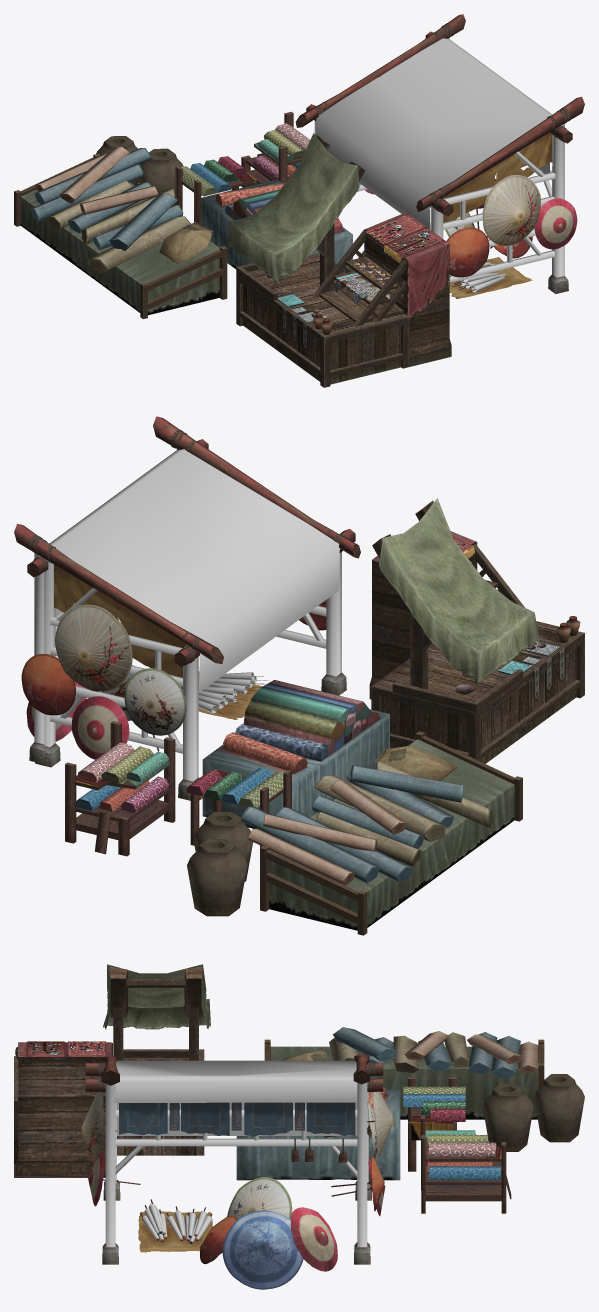
3 renders of one model, top to bottom at view 1: azimuth 30°, elevation 25°; view 2: azimuth 150°, elevation 25°; view 3: azimuth 270°, elevation 25°, orthographic. The views are drawn at different scales.
Visible parts, largest first — view 1: element3ds.com-ca_thing_misc206, element3ds.com-ca_thing_misc057, element3ds.com-ca_thing_misc040, element3ds.com-ca_thing_misc053, element3ds.com-ca_thing_misc084; view 2: element3ds.com-ca_thing_misc206, element3ds.com-ca_thing_misc040, element3ds.com-ca_thing_misc057, element3ds.com-ca_thing_misc053, element3ds.com-ca_thing_misc084; view 3: element3ds.com-ca_thing_misc206, element3ds.com-ca_thing_misc057, element3ds.com-ca_thing_misc040, element3ds.com-ca_thing_misc053, element3ds.com-ca_thing_misc084.
Boxes of the visible parts, left/top/right/bottom form: element3ds.com-ca_thing_misc206: left=295, top=14, right=584, bottom=298; element3ds.com-ca_thing_misc057: left=229, top=133, right=451, bottom=387; element3ds.com-ca_thing_misc040: left=14, top=136, right=227, bottom=319; element3ds.com-ca_thing_misc053: left=175, top=156, right=352, bottom=269; element3ds.com-ca_thing_misc084: left=241, top=111, right=309, bottom=187; element3ds.com-ca_thing_misc206: left=14, top=416, right=360, bottom=800; element3ds.com-ca_thing_misc040: left=187, top=731, right=522, bottom=935; element3ds.com-ca_thing_misc057: left=369, top=498, right=584, bottom=763; element3ds.com-ca_thing_misc053: left=186, top=680, right=389, bottom=847; element3ds.com-ca_thing_misc084: left=65, top=721, right=175, bottom=856; element3ds.com-ca_thing_misc206: left=80, top=1054, right=394, bottom=1289; element3ds.com-ca_thing_misc057: left=14, top=964, right=210, bottom=1177; element3ds.com-ca_thing_misc040: left=264, top=1027, right=584, bottom=1151; element3ds.com-ca_thing_misc053: left=236, top=1077, right=465, bottom=1180; element3ds.com-ca_thing_misc084: left=421, top=1115, right=511, bottom=1213.
Bounding box in the file's own units: 688 × 321 × 769.
